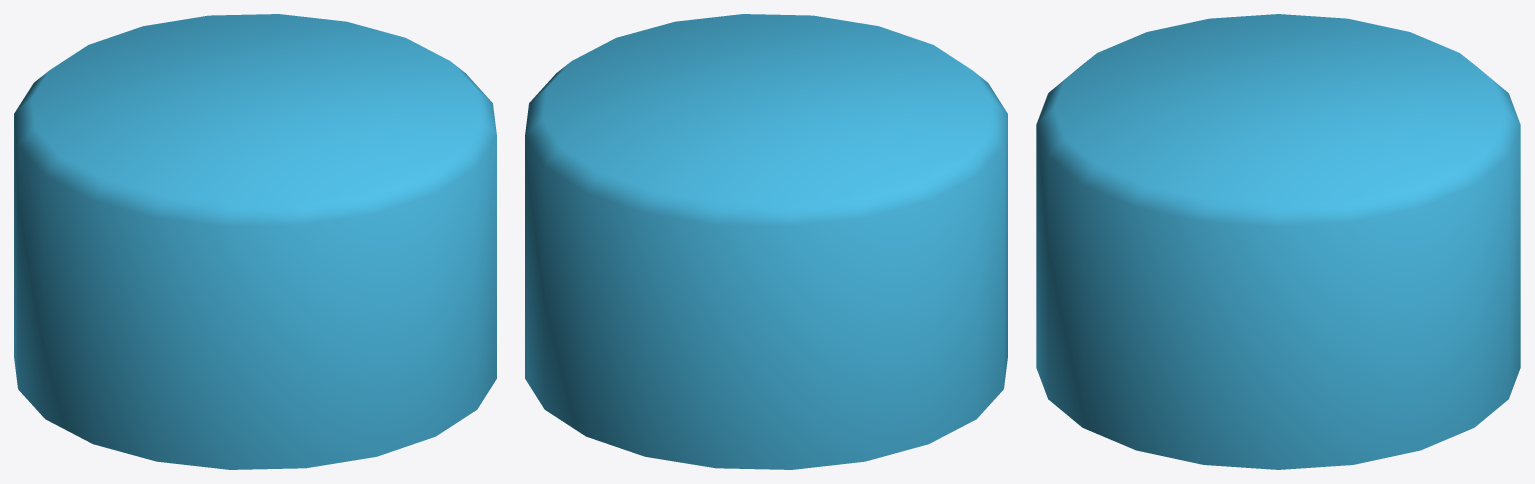
Rendered from PlasticBottleCap.fbx.
3 views of the same model, side by side, from view 1: azimuth 30°, elevation 25°; view 2: azimuth 150°, elevation 25°; view 3: azimuth 270°, elevation 25° (orthographic).
Visible parts, largest first — view 1: Circle.003; view 2: Circle.003; view 3: Circle.003.
Part boxes in pixels (<box>): Circle.003: <box>14,14,496,469</box>; Circle.003: <box>525,14,1007,469</box>; Circle.003: <box>1036,14,1520,469</box>.
Size of the model in its own units: 0.21 by 0.1238 by 0.21.
